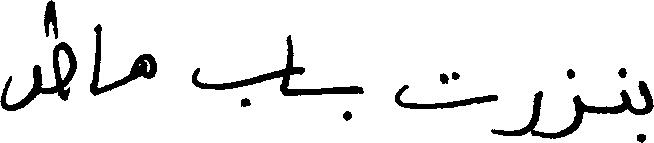X: (0, 0, 74, 115), (398, 67, 497, 138), (195, 63, 281, 111), (544, 64, 582, 142), (499, 86, 542, 142), (641, 76, 653, 142), (134, 49, 155, 84), (283, 30, 292, 100), (93, 19, 100, 100), (623, 63, 629, 116), (353, 81, 361, 98)
